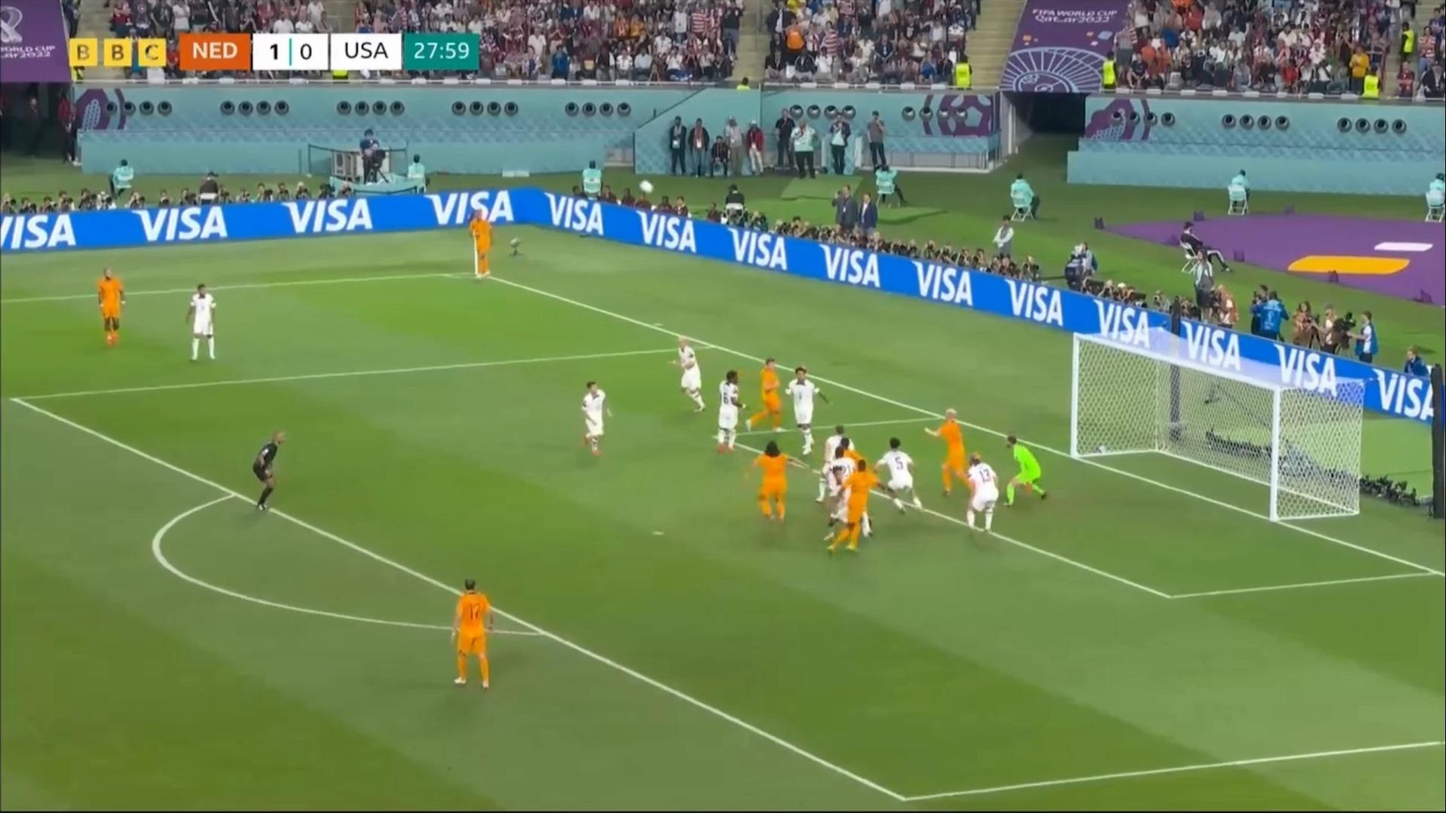Ball: (638, 180, 654, 195)
Player: (443, 576, 498, 695), (828, 453, 877, 555), (784, 365, 834, 456), (924, 407, 972, 497), (874, 437, 926, 517), (750, 441, 798, 526), (709, 367, 749, 455), (94, 264, 133, 349), (961, 456, 1002, 535), (1004, 433, 1047, 507), (818, 428, 857, 509), (577, 380, 615, 463), (185, 280, 222, 362), (671, 336, 707, 414), (751, 359, 783, 432), (469, 207, 495, 281)
Ref: (250, 426, 290, 516)
